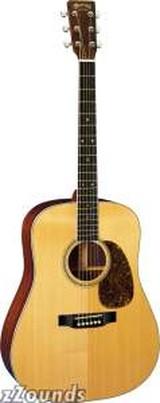guitar: (1, 20, 160, 400)
